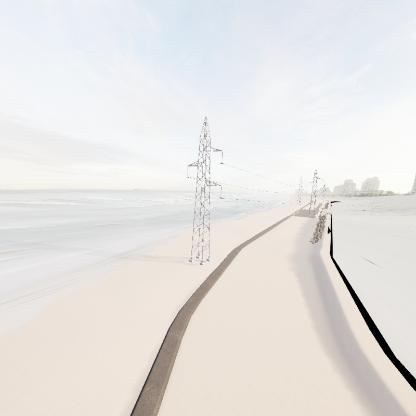tower: (180, 112, 228, 271)
